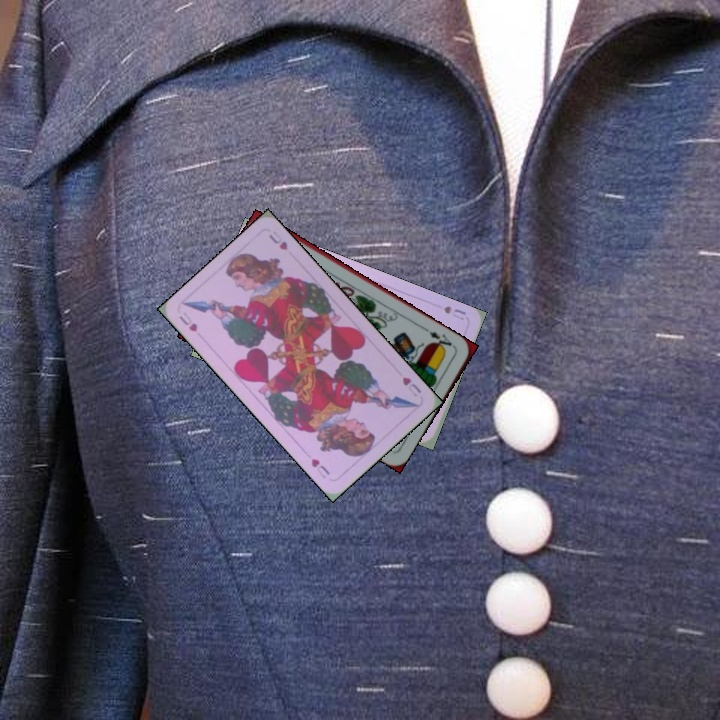EA: (421, 324, 458, 354)
HU: (398, 373, 424, 399), (175, 308, 200, 335)
SU: (438, 301, 468, 323)
